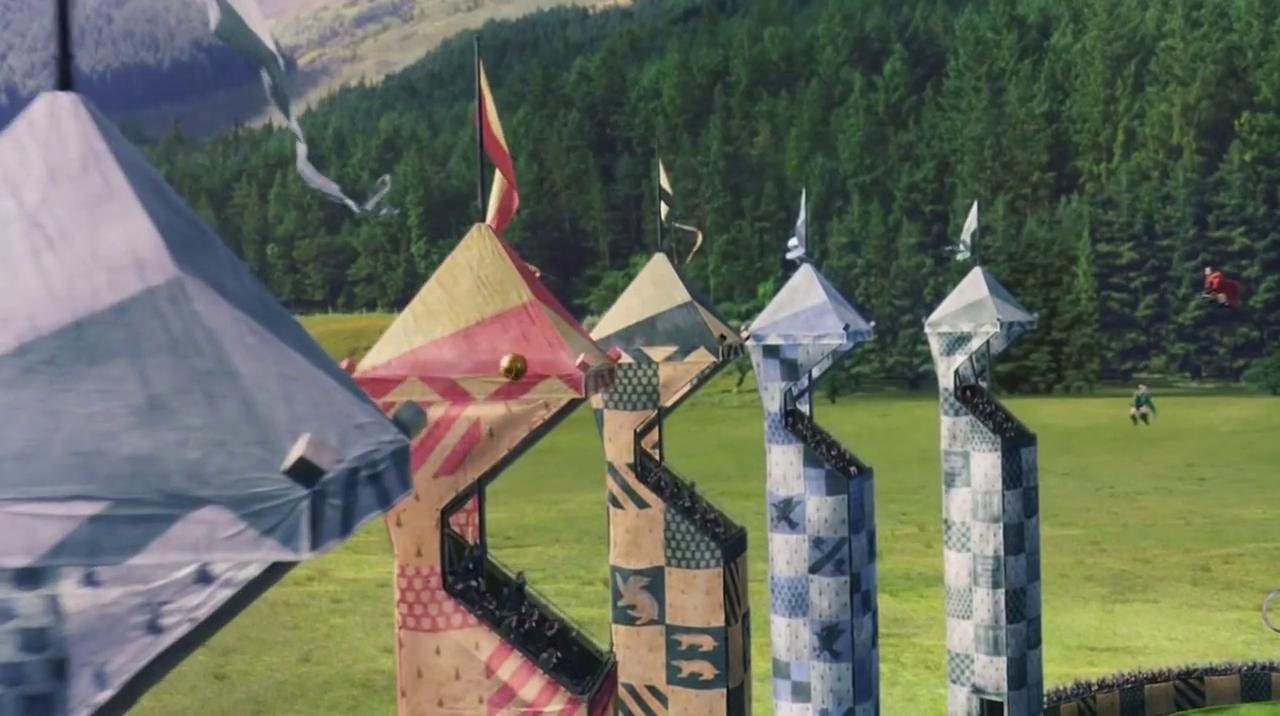snitch: (496, 351, 529, 382)
